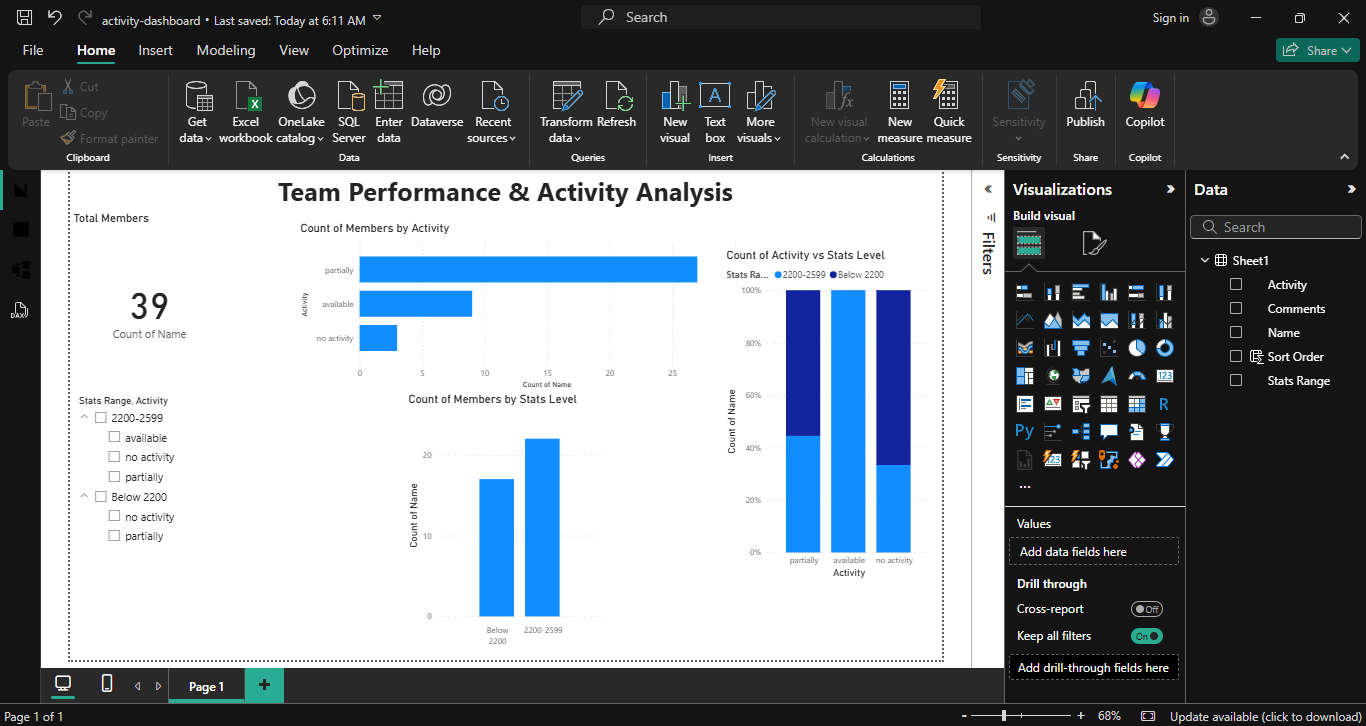

This screenshot's page, from the dashboard's own definition file:
{"tool":"powerbi","page":{"name":"Page 1","canvas":[1280,720],"ordinal":0},"visuals":[{"type":"clusteredColumnChart","title":"Count of Members by Stats Level","fields":{"Category":["Sheet1.Stats Range"],"Y":["CountNonNull(Sheet1.Name)"]},"box":[492.2,326.2,295.3,393.8],"z":0},{"type":"barChart","title":"Count of Members by Activity","fields":{"Y":["CountNonNull(Sheet1.Name)"],"Category":["Sheet1.Activity"]},"box":[333.6,74.9,655.3,251.3],"z":1000},{"type":"hundredPercentStackedColumnChart","title":"Count of Activity vs Stats Level","fields":{"Category":["Sheet1.Activity"],"Y":["CountNonNull(Sheet1.Name)"],"Series":["Sheet1.Stats Range"]},"box":[959.5,114.6,310,490.8],"z":2000},{"type":"slicer","fields":{"Values":["Sheet1.Stats Range","Sheet1.Activity"]},"box":[0,326.2,292.4,266],"z":3000},{"type":"card","title":"Total Members","fields":{"Values":["CountNonNull(Sheet1.Name)"]},"box":[0,60.2,233.6,266],"z":4000},{"type":"textbox","box":[260.1,0,759.7,60.2],"z":5000}]}

Visuals, with their boxes on the page's 1280x720 design canvas (x1, y1, x2, y2). These are canvas units, not pixel positions in the 1366x726 screenshot, which may show the page scaled, cropped or inside an application window:
"Count of Members by Stats Level" clusteredColumnChart: region(492, 326, 788, 720)
"Count of Members by Activity" barChart: region(334, 75, 989, 326)
"Count of Activity vs Stats Level" hundredPercentStackedColumnChart: region(960, 115, 1270, 605)
slicer - Sheet1.Stats Range x Sheet1.Activity: region(0, 326, 292, 592)
"Total Members" card: region(0, 60, 234, 326)
textbox: region(260, 0, 1020, 60)
